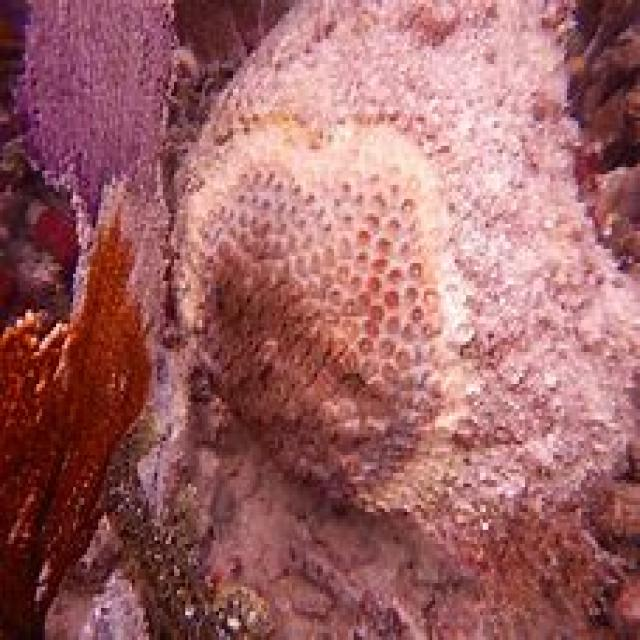Coral: (169, 0, 639, 557), (1, 155, 170, 640), (10, 0, 179, 250)
